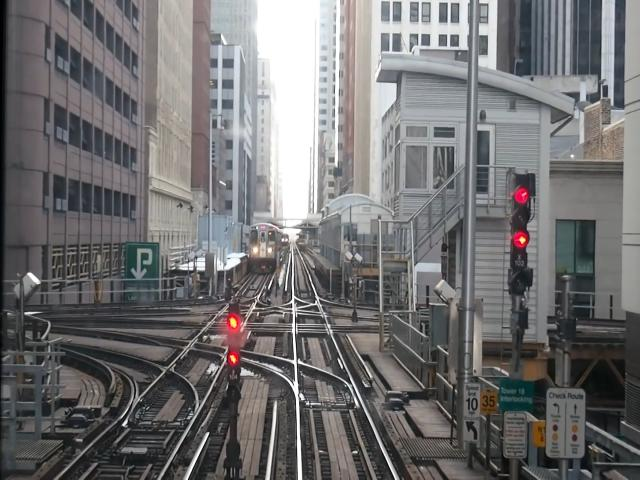signal light: (508, 172, 538, 300), (227, 303, 243, 407)
